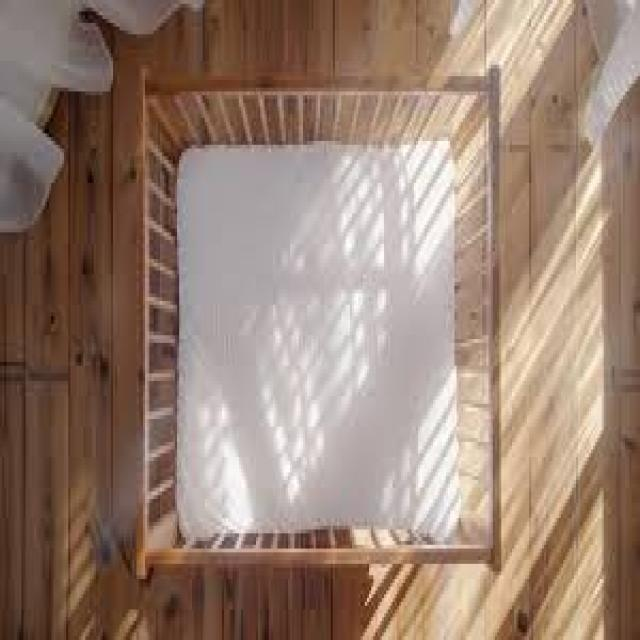crib: (132, 57, 502, 587)
